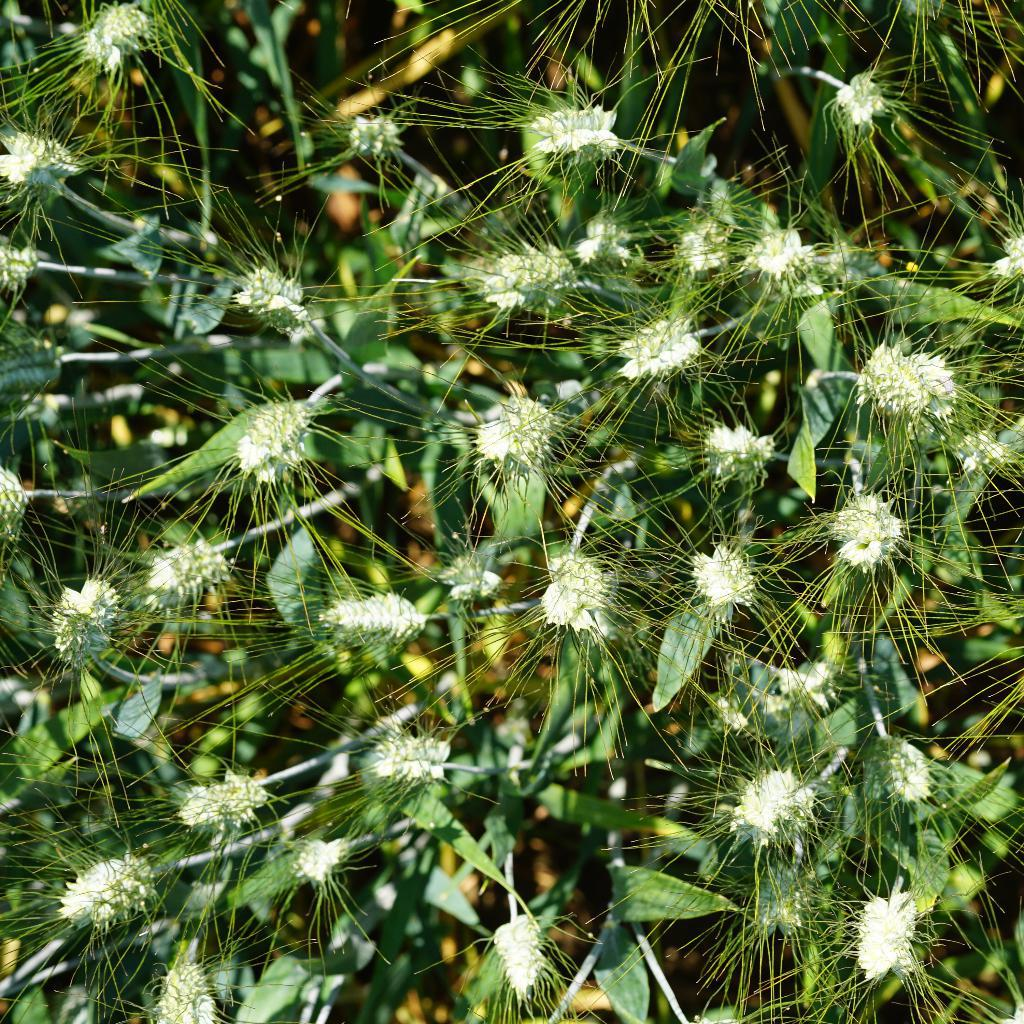0-0: (41, 848, 169, 927), (296, 570, 433, 643), (851, 342, 970, 421), (443, 243, 575, 313), (223, 388, 316, 486), (529, 537, 612, 646), (721, 758, 823, 840), (841, 886, 923, 985), (467, 897, 553, 991), (139, 946, 242, 1024), (163, 759, 273, 829), (49, 572, 127, 668), (126, 535, 239, 600), (228, 262, 322, 339), (748, 653, 832, 739), (467, 397, 550, 484), (73, 0, 164, 78), (516, 96, 623, 162), (743, 863, 821, 952), (869, 720, 948, 804), (617, 307, 703, 381), (834, 485, 903, 576), (692, 541, 768, 623), (0, 128, 93, 195), (372, 729, 459, 793), (697, 426, 785, 489), (276, 834, 362, 886), (437, 549, 509, 610), (346, 101, 403, 171), (672, 210, 736, 271), (950, 423, 1021, 473), (837, 68, 896, 127), (743, 225, 813, 271), (0, 240, 71, 284), (574, 221, 631, 273)
